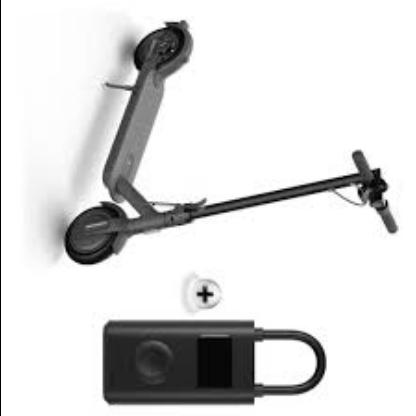bike: (64, 20, 401, 266)
